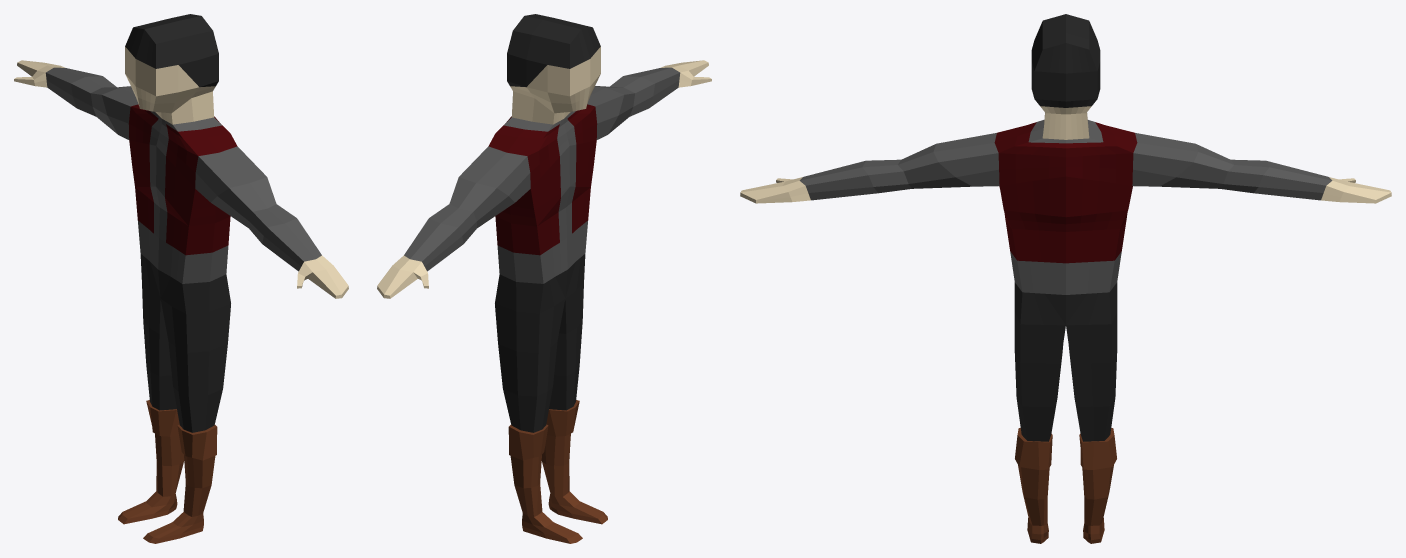
Rendered from pirate_enemy.fbx.
The picture shows the model from 3 angles, left to right: view 1: azimuth 30°, elevation 25°; view 2: azimuth 150°, elevation 25°; view 3: azimuth 270°, elevation 25°; orthographic projection.
Visible parts, largest first — view 1: Cube; view 2: Cube; view 3: Cube.
Part boxes in pixels (x1,y1,x2,y2): Cube: (14,14,348,543); Cube: (377,14,711,543); Cube: (740,14,1391,543).
Size of the model in its own units: 227 by 1322 by 1536.
